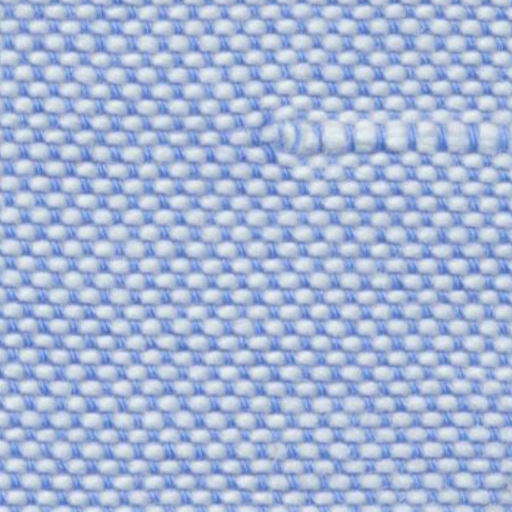DaiSha: (270, 94, 491, 174)
